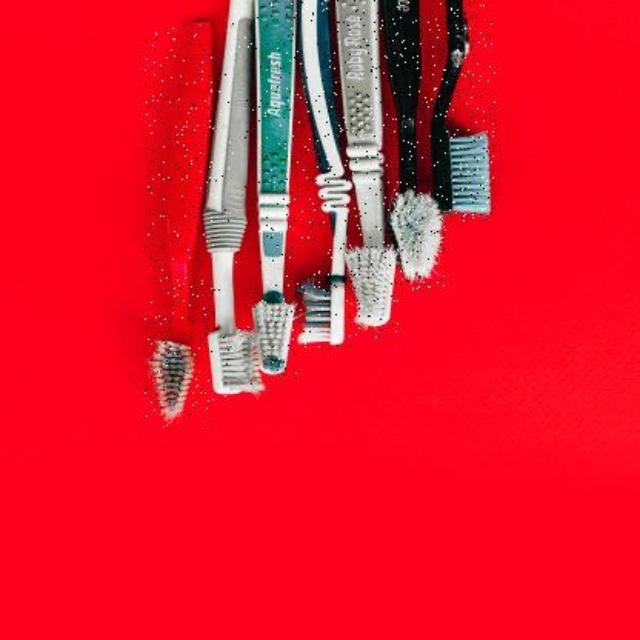toothbrush: (144, 26, 213, 428), (336, 0, 398, 340), (214, 1, 266, 402), (247, 1, 300, 382), (297, 0, 353, 350), (384, 0, 446, 290), (425, 0, 495, 222)
